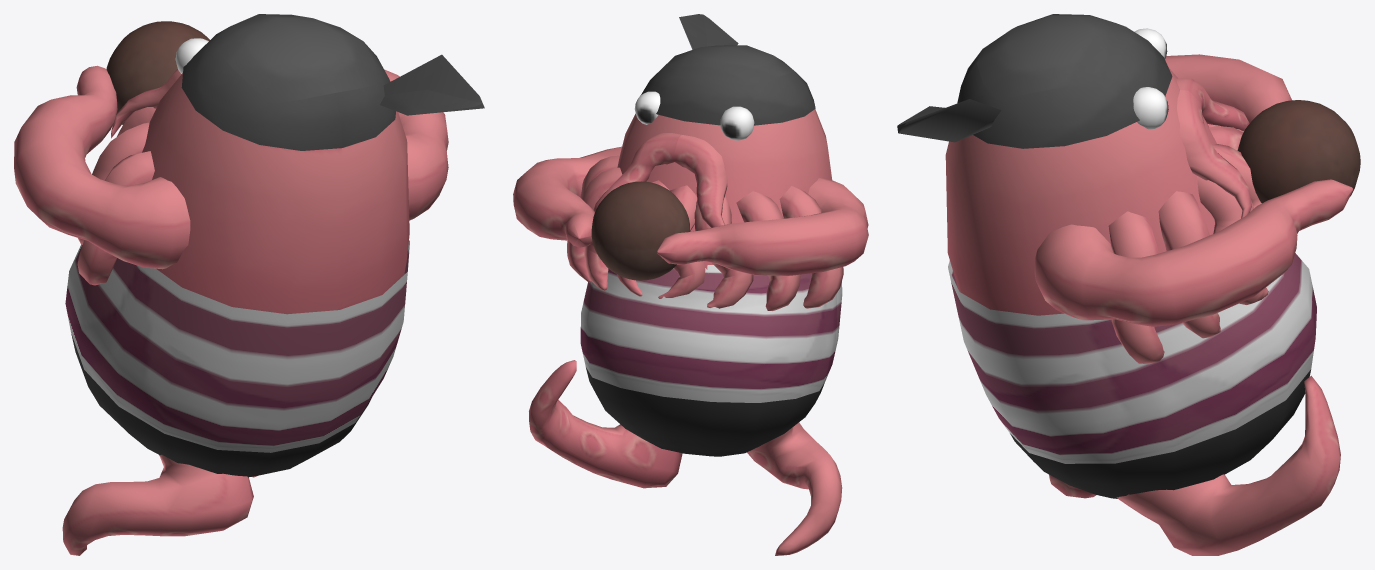
Rendered from tako_walk_b_05.fbx.
3 renders of one model, left to right at view 1: azimuth 30°, elevation 25°; view 2: azimuth 150°, elevation 25°; view 3: azimuth 270°, elevation 25°, orthographic. The views are drawn at different scales.
Visible parts, largest first — view 1: W_b_05; view 2: W_b_05; view 3: W_b_05.
Boxes of the visible parts, left/top/right/bottom form: W_b_05: left=14, top=14, right=484, bottom=555; W_b_05: left=513, top=14, right=868, bottom=555; W_b_05: left=897, top=14, right=1360, bottom=555.
Size of the model in its own units: 1.38 by 1.72 by 1.33.
2 materials, 2 textured.
